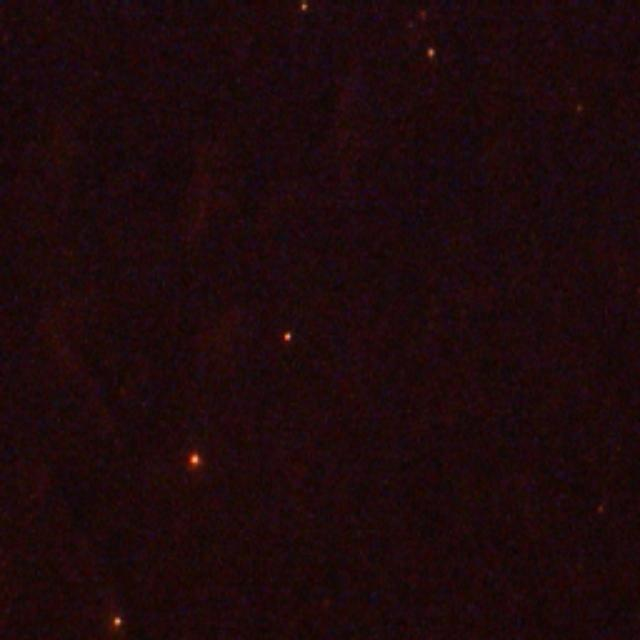Fragment: (188, 450, 204, 470)
